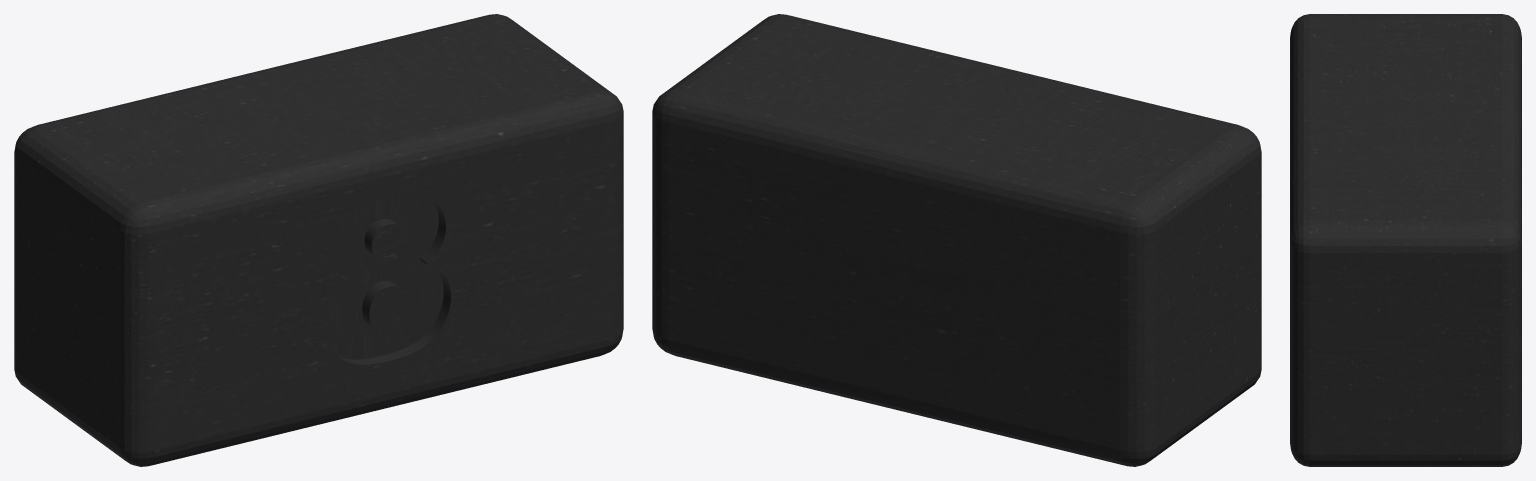
File: btn_8.glb
3 renders of one model, left to right at view 1: azimuth 30°, elevation 25°; view 2: azimuth 150°, elevation 25°; view 3: azimuth 270°, elevation 25°, orthographic. The views are drawn at different scales.
Visible parts, largest first — view 1: Cube.008; view 2: Cube.008; view 3: Cube.008.
Boxes of the visible parts, x1,y1,x2,y2 form: Cube.008: (14, 14, 623, 466); Cube.008: (652, 14, 1261, 466); Cube.008: (1290, 14, 1521, 466).
Size of the model in its own units: 3.42 by 1.71 by 1.48.
2 materials, 2 textured.
